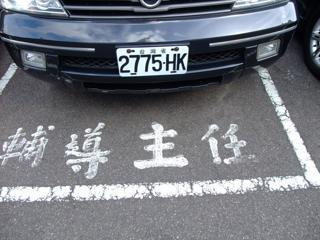plate: (114, 45, 191, 76)
